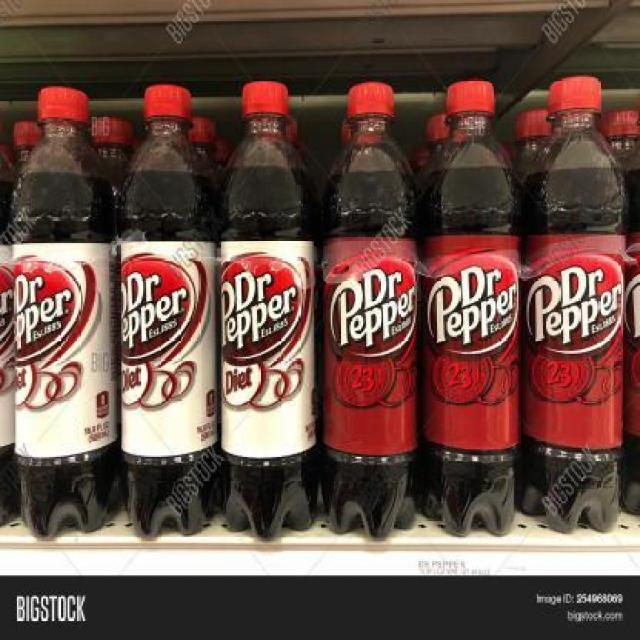Drinks: (116, 83, 224, 539), (522, 76, 628, 533), (218, 79, 321, 543), (13, 86, 117, 542), (419, 78, 521, 536), (321, 80, 417, 544)
